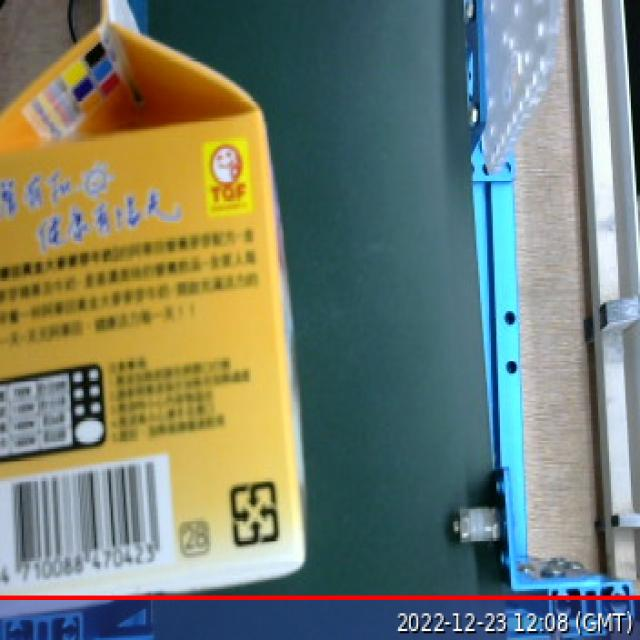non_white_jug: (5, 0, 321, 622)
